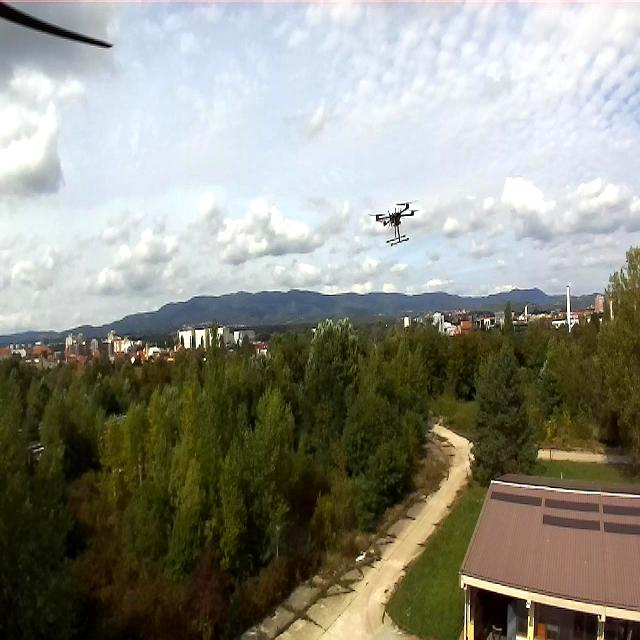drone: (372, 200, 418, 251)
